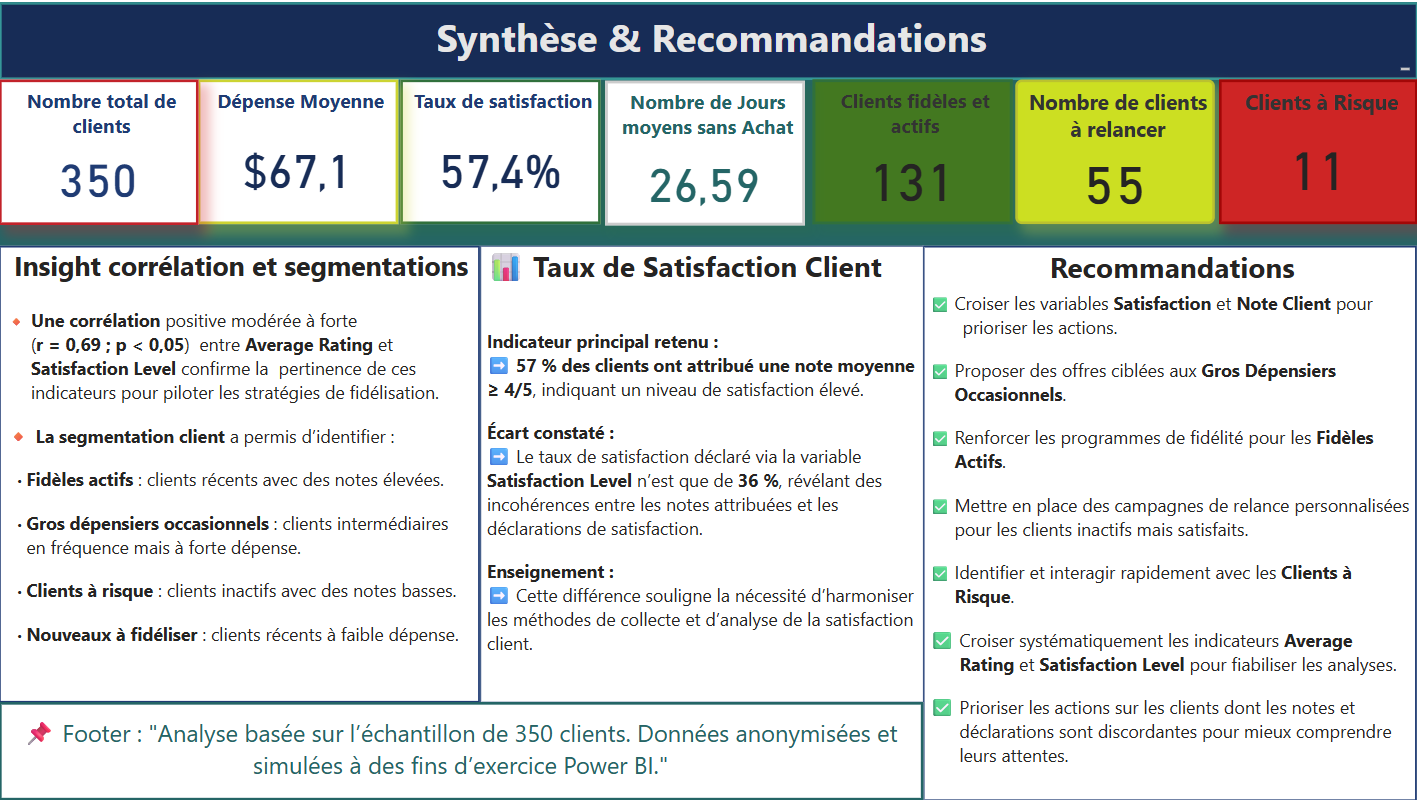

This screenshot's page, from the dashboard's own definition file:
{"tool":"powerbi","page":{"name":"Synthèse et recommandations","canvas":[1280,720],"ordinal":5},"visuals":[{"type":"textbox","title":"Insight corrélation et segmentations","box":[0,219.7,433.5,411.9],"z":0},{"type":"textbox","title":"Synthèse & Recommandations","box":[0,0,1280.4,70],"z":1000},{"type":"textbox","title":"Recommandations","box":[833.3,219.7,446.7,500.7],"z":2000},{"type":"textbox","title":"📊 Taux de Satisfaction Client","box":[433.5,219.7,399.8,411.9],"z":3000},{"type":"textbox","box":[0,631.6,833.3,88.9],"z":4000},{"type":"card","title":"Clients fidèles et actifs","fields":{"Values":["e_commerce_Customer_Behavior.Clients_Fideles"]},"box":[733.2,70,180,130.8],"z":5000},{"type":"card","title":"Nombre de clients à relancer","fields":{"Values":["e_commerce_Customer_Behavior.Clients_A_Relancer"]},"box":[916.9,70,180,130.8],"z":6000},{"type":"card","title":"Clients à Risque","fields":{"Values":["e_commerce_Customer_Behavior.Clients à Risque"]},"box":[1100.5,70,180,130.8],"z":7000},{"type":"card","title":"Taux de satisfaction","fields":{"Values":["e_commerce_Customer_Behavior.Taux de Satisfaction Note"]},"box":[361.7,70,180.9,130],"z":8000},{"type":"card","title":"Dépense Moyenne ","fields":{"Values":["e_commerce_Customer_Behavior.AverageSpend"]},"box":[179.5,70,180.9,130.8],"z":9000},{"type":"card","title":"Nombre total de clients ","fields":{"Values":["CountNonNull(e_commerce_Customer_Behavior.Customer ID)"]},"box":[0,70,180.1,130.9],"z":10000},{"type":"card","title":"Nombre de Jours moyens sans Achat","fields":{"Values":["e_commerce_Customer_Behavior.Average_Days_Since_Last_Purchase"]},"box":[546.8,71,180,130.8],"z":11000}]}

Visuals, with their boxes in screenshot pixels (x1, y1, x2, y2), scaled from the page's 1280x720 canvas onto the 1417x800 screenshot:
"Insight corrélation et segmentations" textbox: <region>0, 244, 480, 702</region>
"Synthèse & Recommandations" textbox: <region>0, 0, 1416, 78</region>
"Recommandations" textbox: <region>922, 244, 1416, 799</region>
"📊 Taux de Satisfaction Client" textbox: <region>480, 244, 922, 702</region>
textbox: <region>0, 702, 922, 799</region>
"Clients fidèles et actifs" card: <region>812, 78, 1011, 223</region>
"Nombre de clients à relancer" card: <region>1015, 78, 1214, 223</region>
"Clients à Risque" card: <region>1218, 78, 1416, 223</region>
"Taux de satisfaction" card: <region>400, 78, 601, 222</region>
"Dépense Moyenne " card: <region>199, 78, 399, 223</region>
"Nombre total de clients " card: <region>0, 78, 199, 223</region>
"Nombre de Jours moyens sans Achat" card: <region>605, 79, 805, 224</region>
